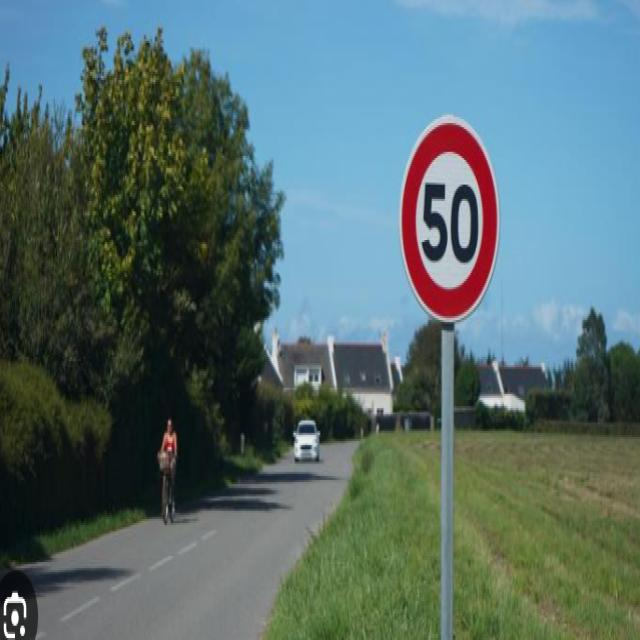speed_50: (400, 114, 500, 322)
